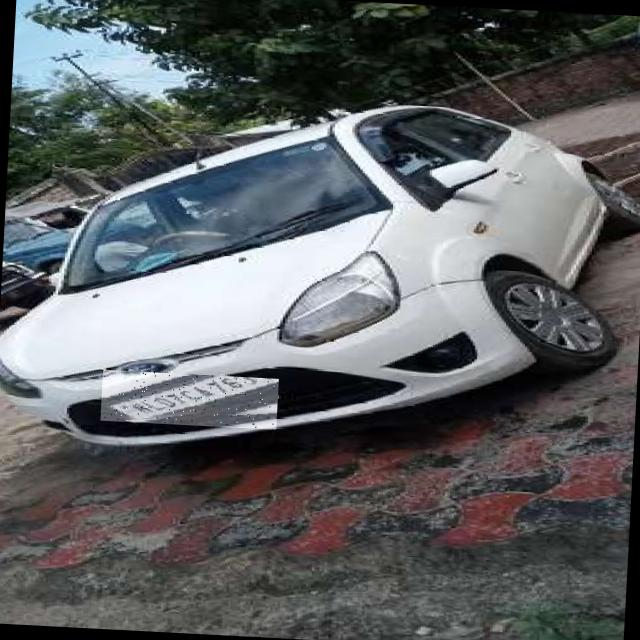Plate: (102, 371, 280, 431)
